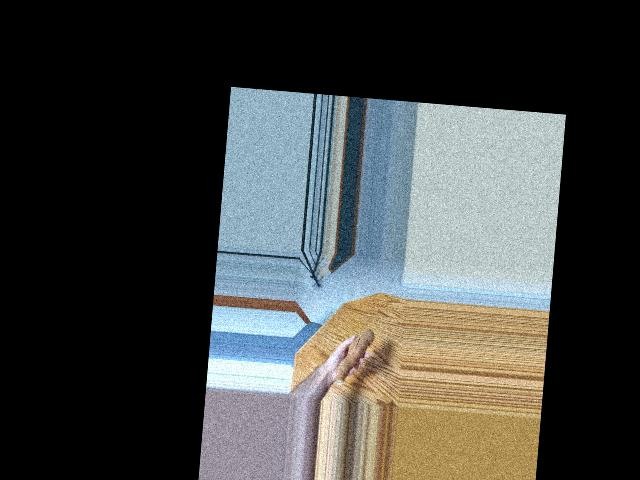sweet_potato: (330, 324, 375, 388)
